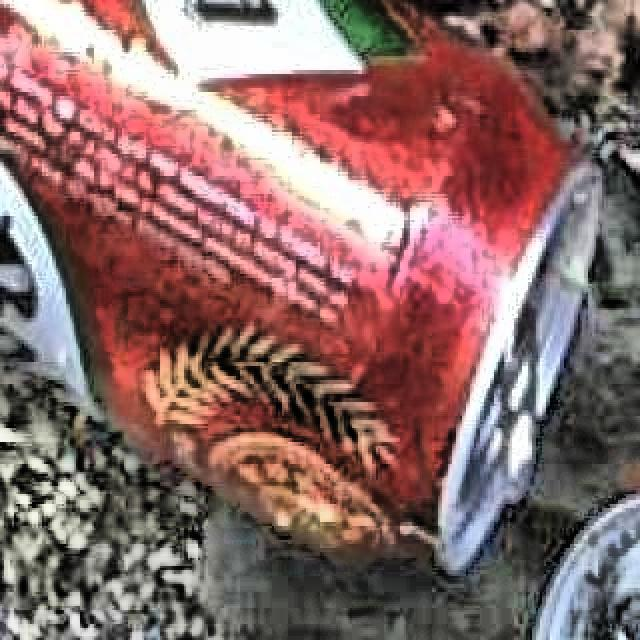metal: (0, 0, 592, 584)
